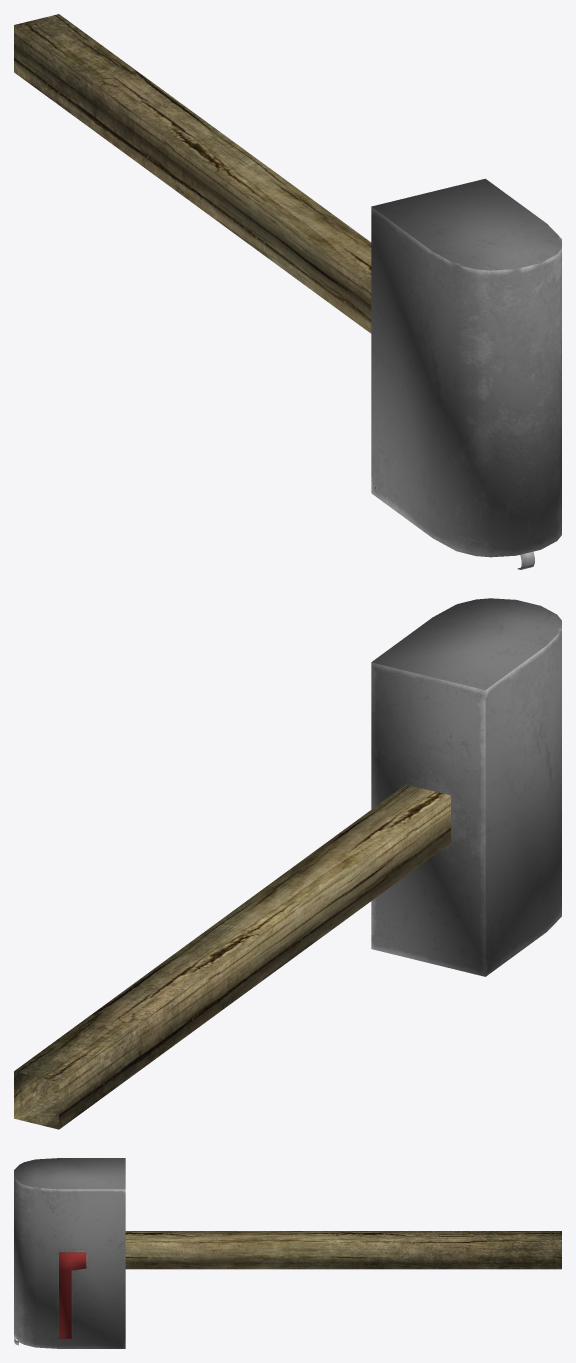
The model's file is Mailbox.obj.
The picture shows the model from 3 angles, top to bottom: view 1: azimuth 30°, elevation 25°; view 2: azimuth 150°, elevation 25°; view 3: azimuth 270°, elevation 25°; orthographic projection. The views are drawn at different scales.
Visible parts, largest first — view 1: Mailbox; view 2: Mailbox; view 3: Mailbox.
Boxes of the visible parts, bbox=[...] form: Mailbox: bbox=[14, 14, 561, 569]; Mailbox: bbox=[14, 598, 561, 1129]; Mailbox: bbox=[14, 1158, 561, 1348].
Bounding box in the file's own units: 0.1994 × 0.4914 × 1.44.
1 material, 1 textured.
